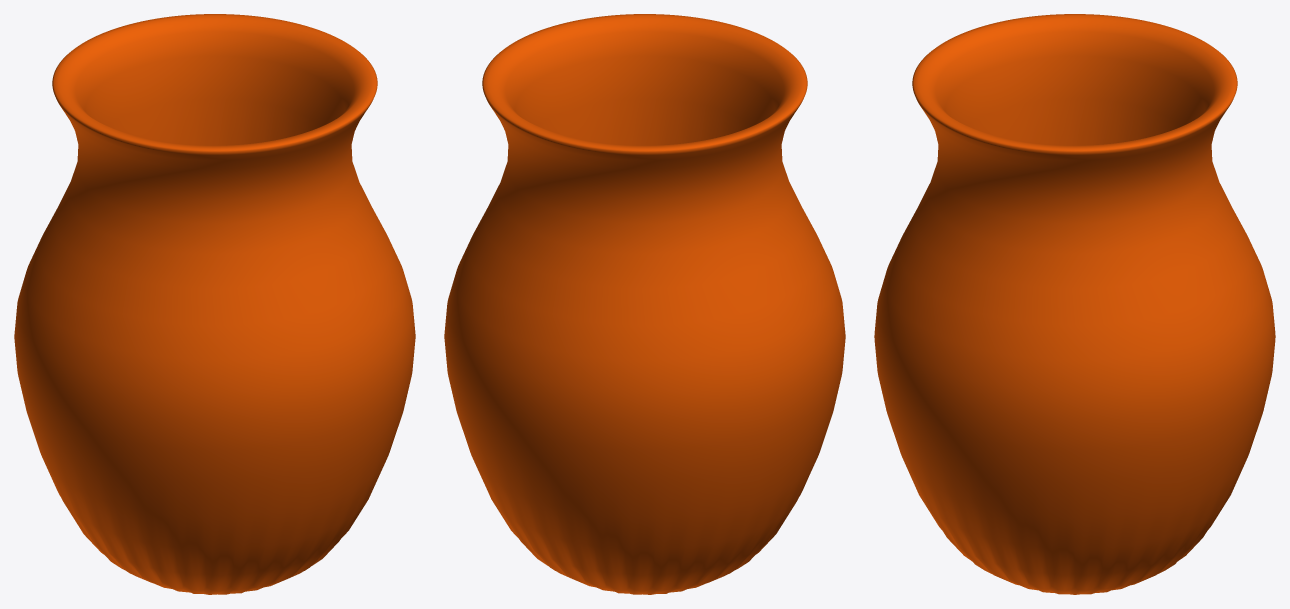
Rendered from Vase.fbx.
3 renders of one model, left to right at view 1: azimuth 30°, elevation 25°; view 2: azimuth 150°, elevation 25°; view 3: azimuth 270°, elevation 25°, orthographic.
Parts seen in each view (by area): view 1: Cylinder; view 2: Cylinder; view 3: Cylinder.
Part boxes in pixels (box(x1,y1,x2,y2)): Cylinder: box(14, 14, 415, 594); Cylinder: box(444, 14, 845, 594); Cylinder: box(874, 14, 1275, 594).
Bounding box in the file's own units: 39.21 × 53.99 × 39.21.
